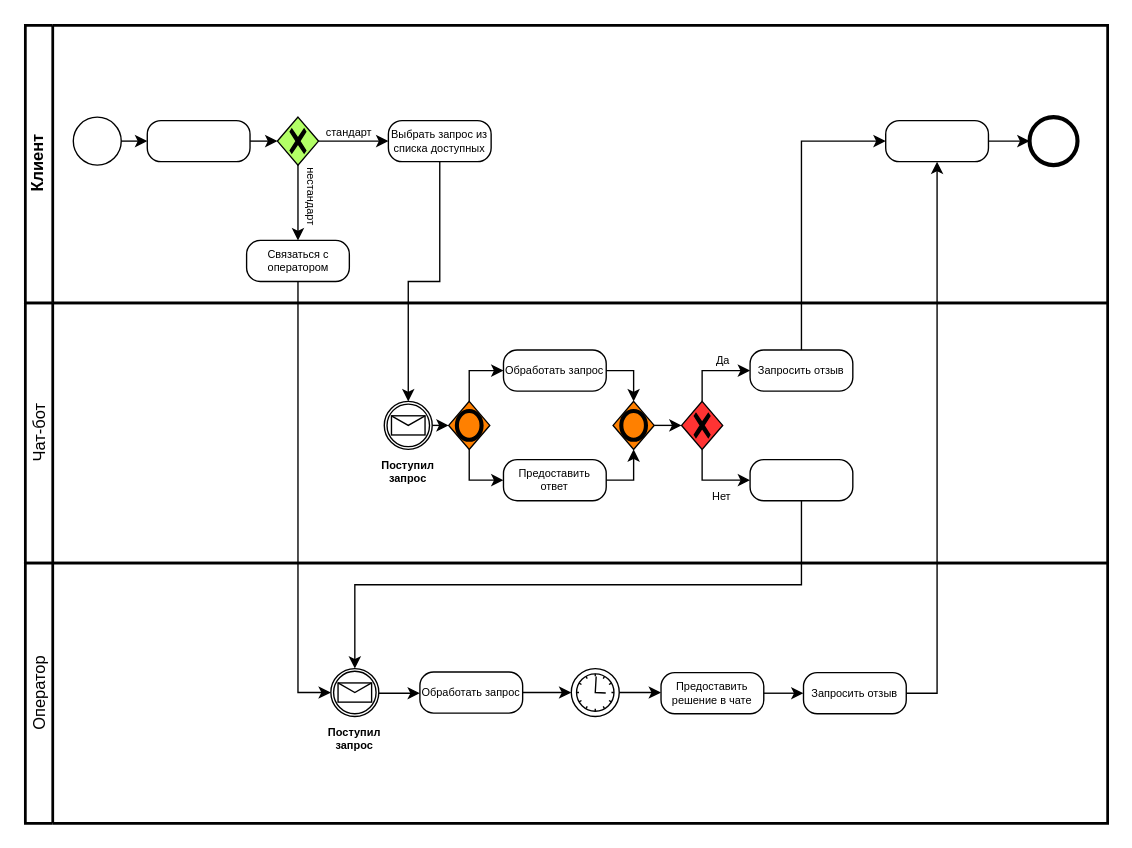
This 1132x848 diagram has some shape labels left out. The centre of each missing label's shape, as x and y in pixels:
"Возникла проблема" goes at [96,140].
"Войти в чат приложения" goes at [198,140].
"Направить в чат с оператором" goes at [801,479].
"Оставить отзыв" goes at [936,140].
"Проблема решена" goes at [1053,140].
"Проблема решена?" goes at [701,424].
"Тип запроса" goes at [297,140].
